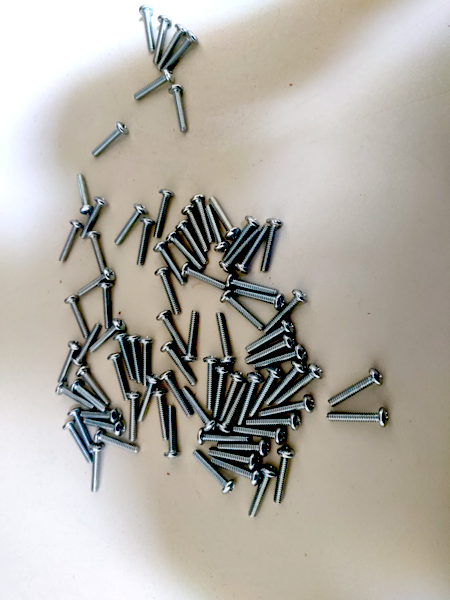longscrew: (328, 369, 383, 406), (244, 464, 278, 522), (263, 292, 308, 335), (220, 290, 265, 332), (236, 222, 271, 276), (267, 361, 307, 407), (222, 228, 261, 275), (180, 385, 215, 435), (277, 369, 322, 406), (192, 452, 232, 493), (244, 321, 295, 352), (222, 386, 252, 438), (222, 380, 252, 432), (246, 335, 296, 366), (159, 34, 199, 72), (251, 369, 280, 421), (222, 370, 251, 422), (162, 342, 197, 385), (157, 24, 189, 70), (252, 347, 305, 374), (168, 231, 202, 273), (112, 204, 146, 246), (272, 447, 296, 506), (259, 218, 284, 274), (153, 243, 187, 284), (223, 216, 255, 259), (177, 218, 206, 265), (182, 203, 210, 250), (137, 374, 162, 426), (165, 370, 192, 418), (90, 123, 128, 157), (73, 322, 102, 366), (90, 320, 124, 357), (158, 309, 186, 353), (133, 70, 174, 100), (78, 367, 111, 404), (192, 193, 217, 241), (154, 13, 176, 67), (64, 423, 92, 465), (211, 197, 239, 239), (57, 220, 84, 263), (225, 277, 282, 297), (206, 206, 230, 253), (182, 265, 227, 290), (211, 462, 262, 484), (135, 218, 157, 269), (80, 196, 106, 239), (56, 339, 80, 385), (156, 267, 179, 315), (152, 189, 174, 239), (64, 298, 89, 341), (69, 383, 106, 412), (88, 227, 108, 280), (215, 370, 237, 418), (76, 270, 115, 297), (108, 353, 130, 400), (229, 427, 290, 443), (246, 415, 307, 431), (258, 400, 319, 416), (328, 410, 389, 426), (171, 83, 189, 136), (139, 3, 158, 53), (128, 392, 146, 444), (208, 449, 260, 467), (183, 312, 202, 361), (205, 349, 220, 411), (115, 335, 135, 381), (219, 309, 234, 368), (56, 387, 96, 409), (164, 405, 180, 459), (234, 290, 286, 306), (90, 445, 106, 496), (71, 409, 91, 449), (93, 436, 142, 452), (100, 281, 115, 330), (129, 332, 142, 388), (157, 390, 171, 440), (75, 171, 90, 215), (141, 336, 153, 388), (199, 433, 251, 445), (217, 444, 273, 455), (82, 423, 127, 435), (80, 410, 121, 422)
